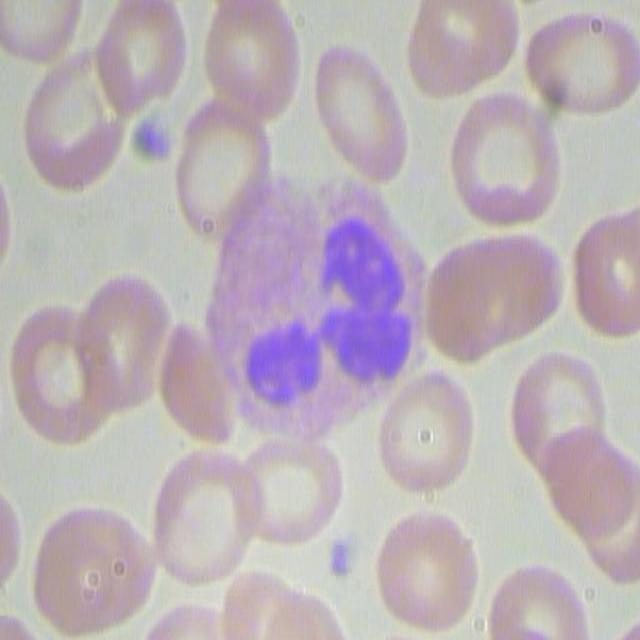RBC: (416, 220, 560, 364), (446, 88, 562, 230), (28, 502, 148, 635), (149, 442, 258, 587), (17, 54, 126, 196), (11, 298, 114, 448), (170, 87, 270, 239), (144, 565, 340, 640), (313, 40, 412, 188), (233, 422, 343, 554), (77, 266, 172, 416), (373, 360, 475, 495), (547, 438, 640, 586), (373, 502, 478, 631), (507, 347, 613, 472), (526, 7, 640, 122), (203, 0, 305, 122), (403, 1, 516, 103), (92, 0, 191, 113), (156, 314, 242, 440), (567, 200, 640, 340), (486, 563, 594, 640), (0, 0, 83, 72), (2, 496, 34, 640)
WBC: (218, 161, 462, 426)
platelets: (131, 115, 177, 170), (326, 531, 364, 585)
